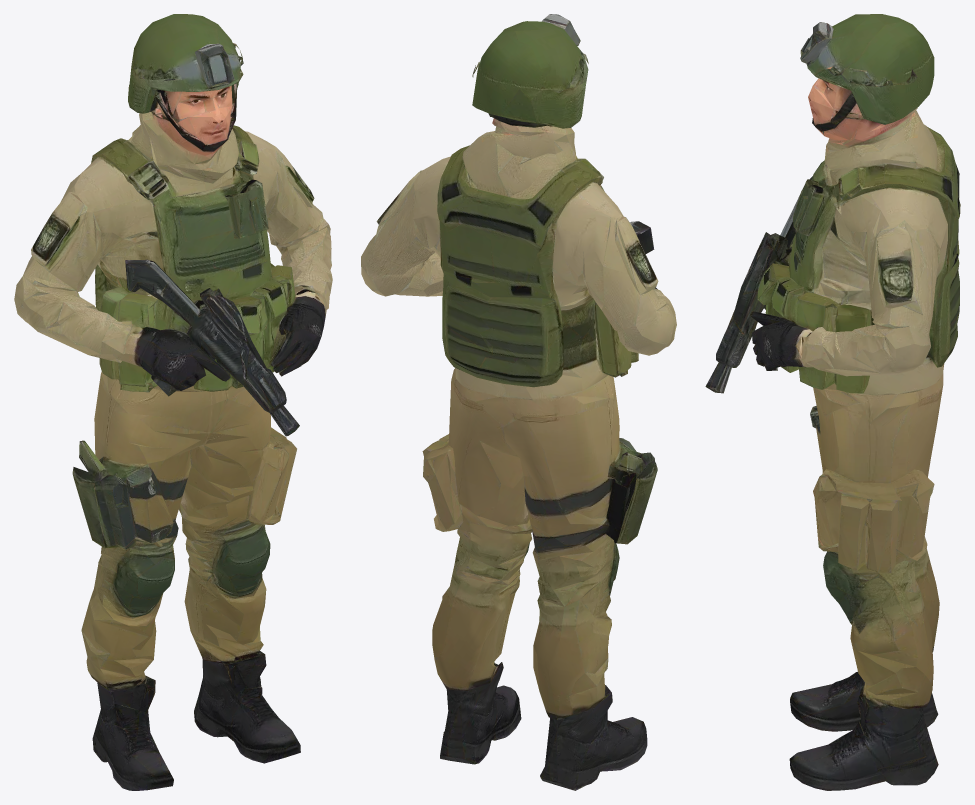
File: soldier-static.glb
The picture shows the model from 3 angles, left to right: view 1: azimuth 30°, elevation 25°; view 2: azimuth 150°, elevation 25°; view 3: azimuth 270°, elevation 25°; orthographic projection.
Parts seen in each view (by area): view 1: Mesh_0; view 2: Mesh_0; view 3: Mesh_0.
Part boxes in pixels (x1,y1,x2,y2): Mesh_0: (14, 14, 332, 790); Mesh_0: (361, 14, 676, 790); Mesh_0: (705, 14, 960, 790).
Size of the model in its own units: 0.7945 by 1.8 by 0.5669.
1 material, 1 textured.
